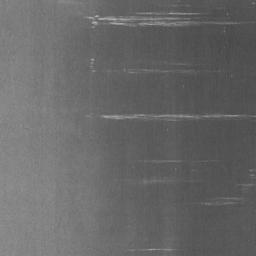Waist folding: (44, 4, 256, 30), (74, 56, 256, 79), (75, 111, 256, 122), (116, 176, 199, 186), (200, 196, 256, 207), (139, 158, 216, 164), (237, 167, 256, 188), (125, 246, 176, 253), (57, 0, 83, 6)
